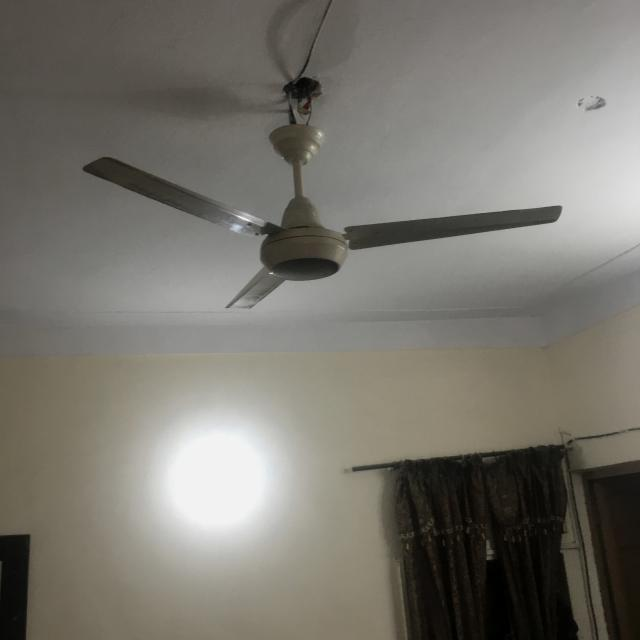off: (74, 150, 572, 325)
